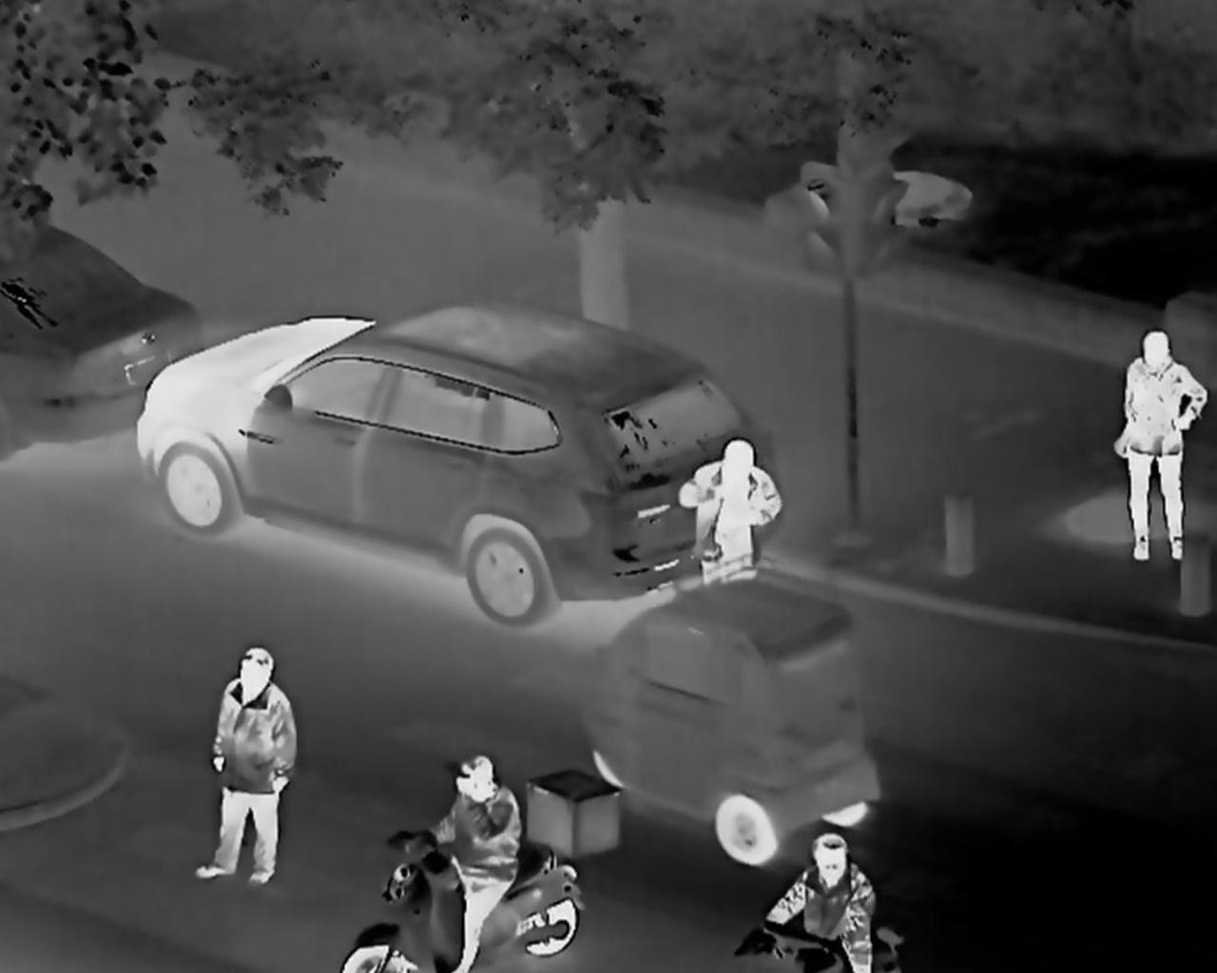person: (187, 632, 299, 906), (425, 738, 522, 970), (1129, 310, 1210, 542), (770, 830, 889, 973), (676, 415, 763, 569)
